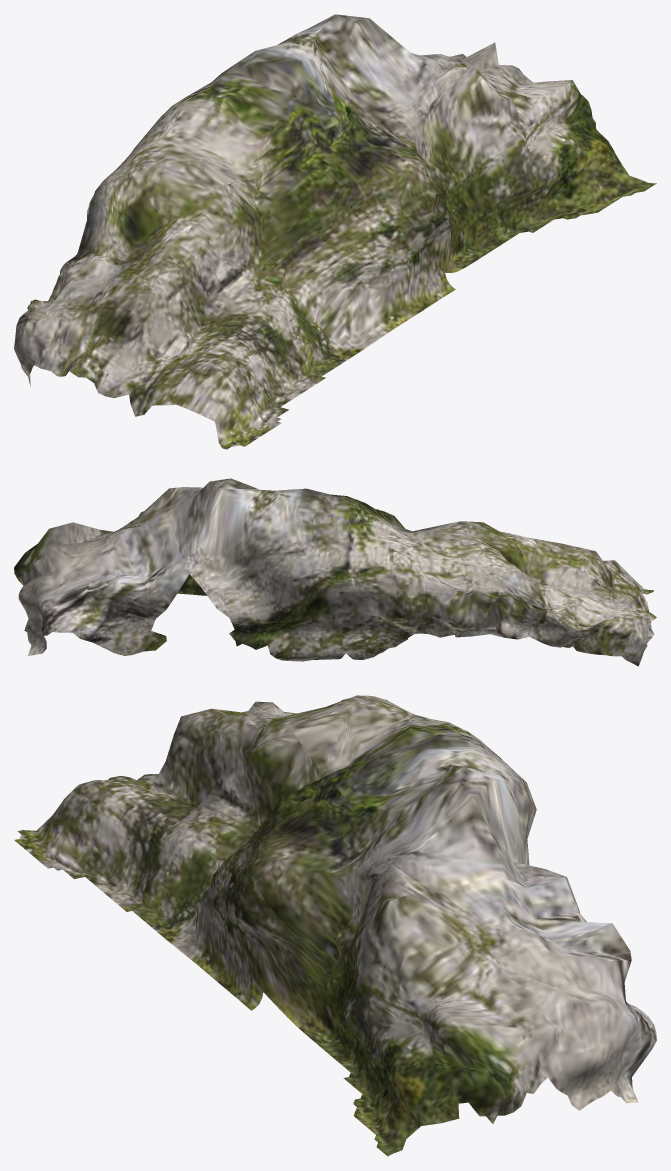
File: MOUNTAIN_2.fbx
The picture shows the model from 3 angles, top to bottom: view 1: azimuth 30°, elevation 25°; view 2: azimuth 150°, elevation 25°; view 3: azimuth 270°, elevation 25°; orthographic projection. The views are drawn at different scales.
Visible parts, largest first — view 1: Plane.005; view 2: Plane.005; view 3: Plane.005.
Boxes of the visible parts, x1=… form: Plane.005: x1=14, y1=14, x2=656, y2=449; Plane.005: x1=14, y1=478, x2=656, y2=666; Plane.005: x1=14, y1=695, x2=656, y2=1156.
Size of the model in its own units: 2644 by 734 by 1886.
